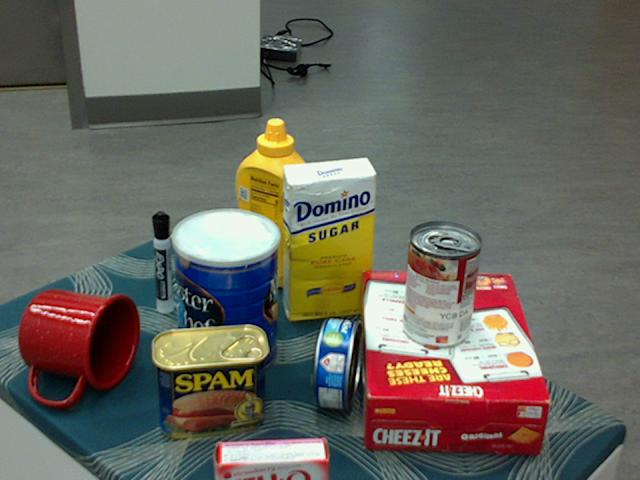cracker_box: (357, 273, 551, 450)
gelatin_box: (211, 438, 326, 479)
large_marker: (152, 210, 171, 313)
master_chef_can: (172, 209, 280, 382)
mug: (18, 288, 140, 405)
mustard_bottle: (235, 118, 314, 289)
potted_meat_can: (151, 324, 268, 437)
sugar_box: (282, 159, 377, 322)
tomato_soup_can: (401, 222, 481, 349)
tuna_fish_can: (313, 318, 362, 411)
